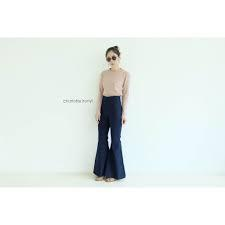pants: (93, 95, 125, 178)
sweater: (99, 68, 131, 98)
